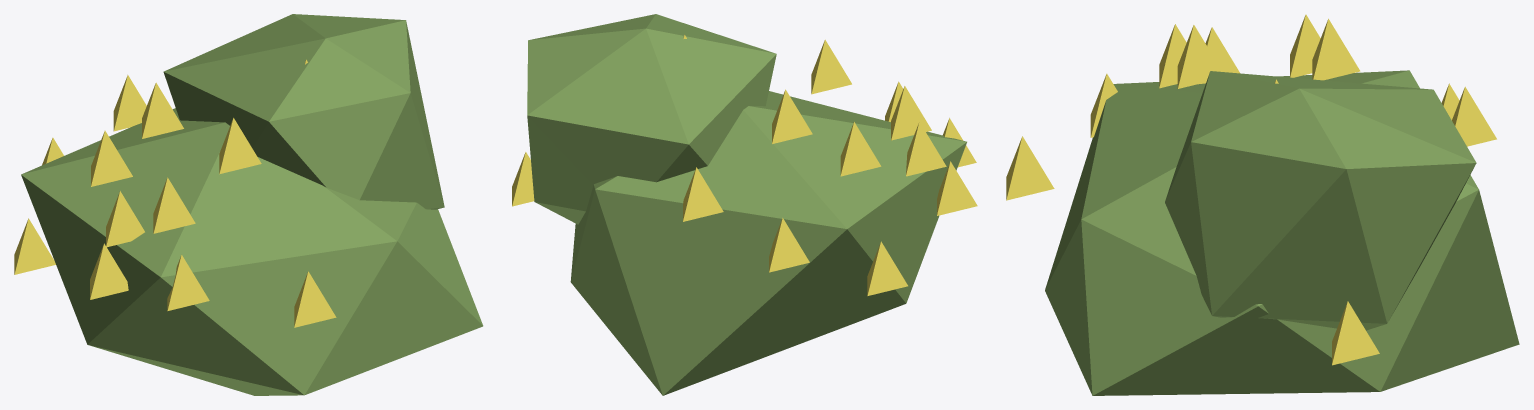
The model's file is broom.glb.
The picture shows the model from 3 angles, left to right: view 1: azimuth 30°, elevation 25°; view 2: azimuth 150°, elevation 25°; view 3: azimuth 270°, elevation 25°; orthographic projection. The views are drawn at different scales.
Parts seen in each view (by area): view 1: SG_Broom; view 2: SG_Broom; view 3: SG_Broom.
Boxes of the visible parts, x1,y1,x2,y2 form: SG_Broom: (14, 14, 483, 395); SG_Broom: (512, 14, 977, 395); SG_Broom: (1006, 14, 1519, 395).
Size of the model in its own units: 1.87 by 1.33 by 1.76.
